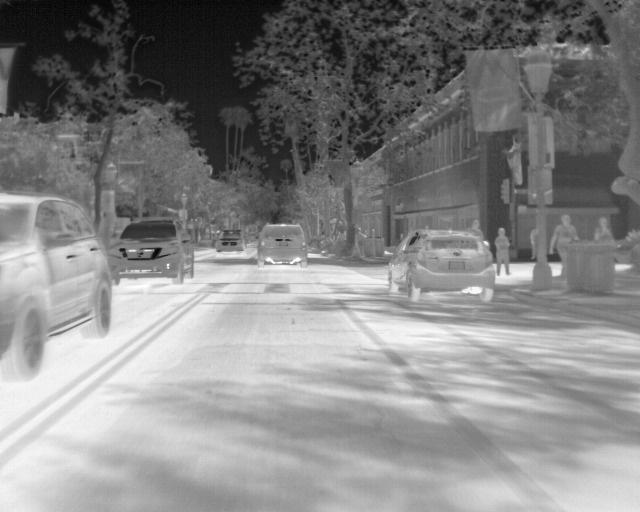bicycle: (0, 189, 110, 379), (385, 226, 498, 302), (107, 216, 199, 287), (255, 224, 307, 267), (212, 227, 243, 255)
empty: (549, 212, 580, 267), (495, 226, 514, 278), (593, 217, 615, 243)
